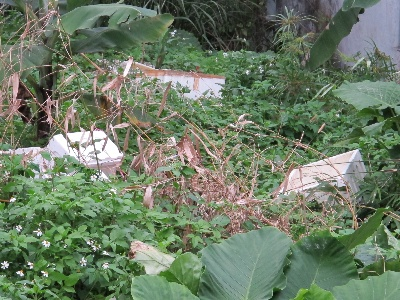styrofoam: (277, 148, 372, 219)
